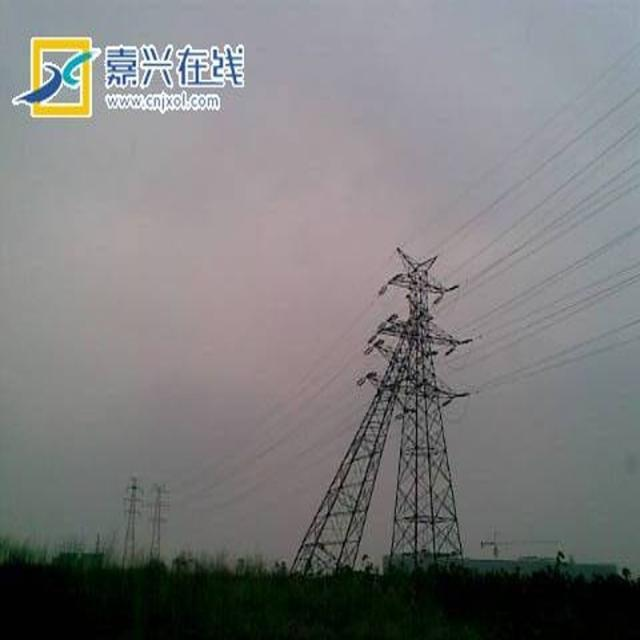non-critical vegetation: (298, 312, 426, 572), (378, 245, 473, 572), (140, 477, 174, 557), (114, 472, 142, 552)
